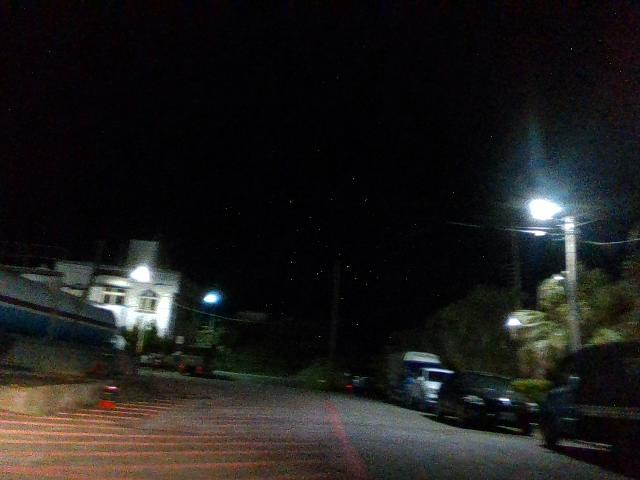pollute: (93, 383, 118, 413)
